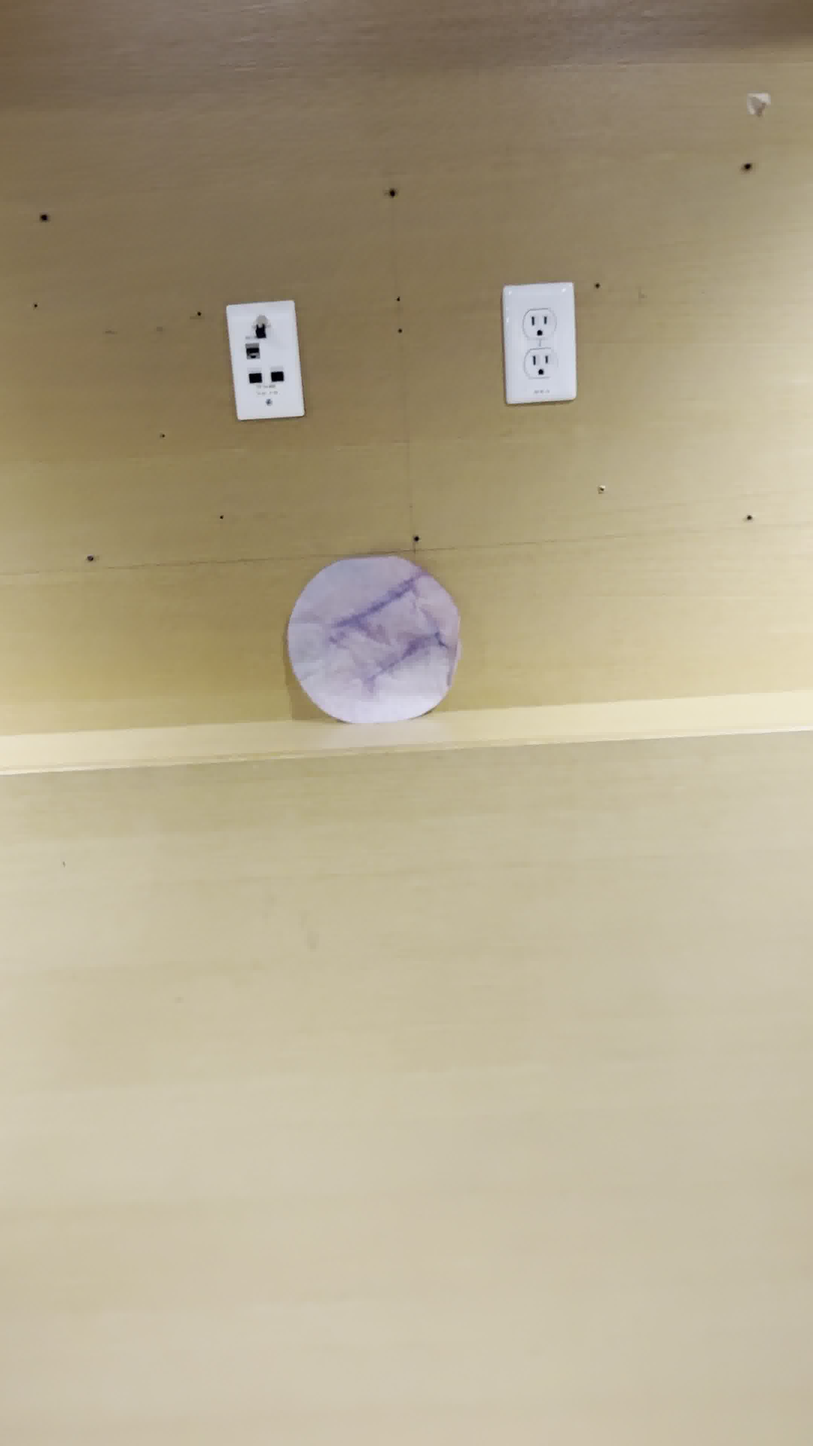Target: (279, 548, 465, 740)
